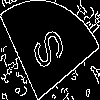S: (25, 24, 67, 79)
